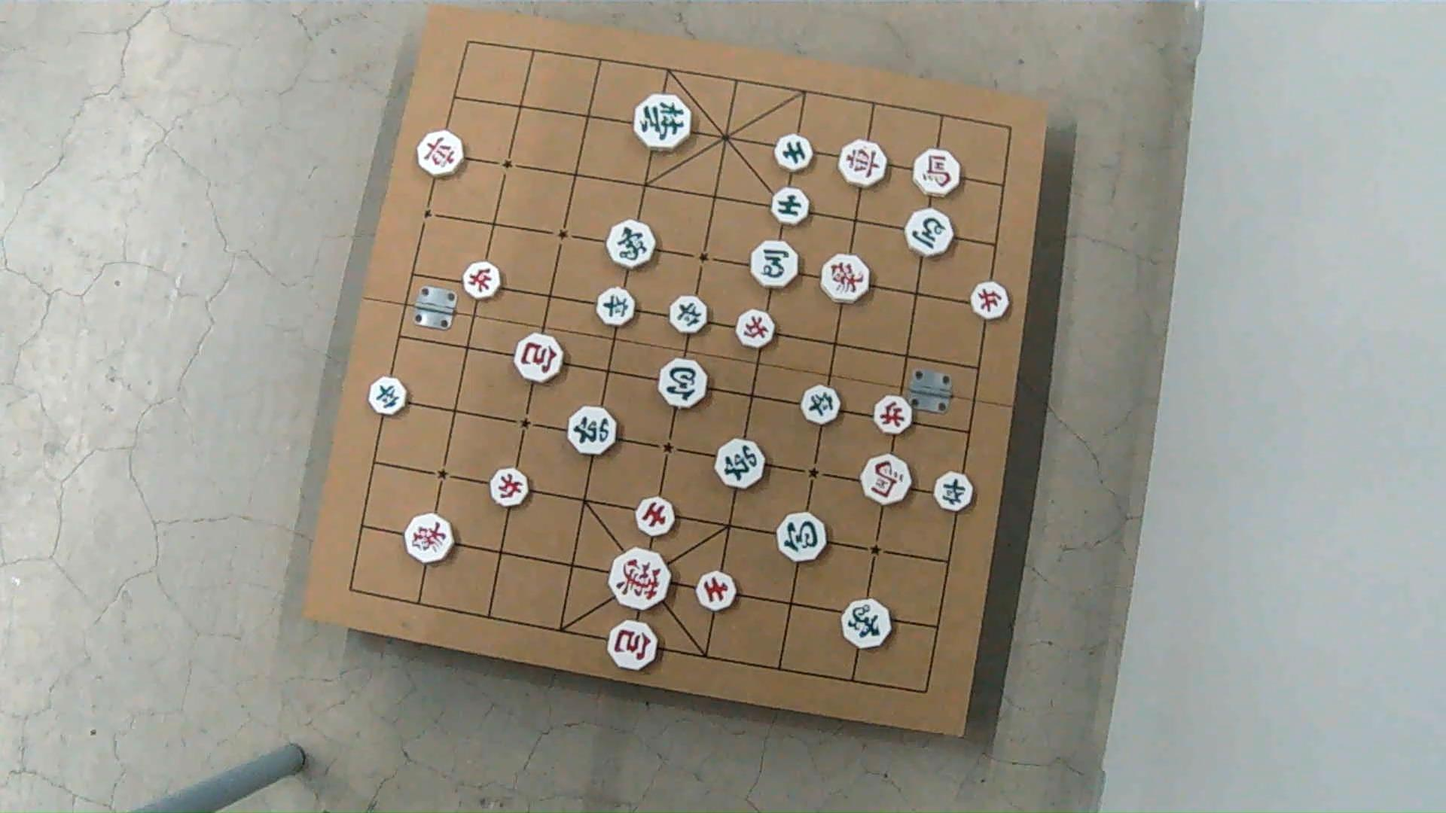cha_green: (714, 437, 764, 487), (567, 406, 616, 455)
cha_red: (840, 140, 887, 187), (420, 132, 466, 177)
jol_green: (935, 473, 974, 511), (801, 386, 839, 425), (596, 286, 636, 323), (367, 375, 404, 413), (670, 296, 708, 333)
jol_red: (489, 466, 528, 506), (737, 309, 776, 348), (874, 396, 913, 435), (464, 261, 502, 300), (970, 279, 1008, 317)
ma_green: (904, 209, 953, 256), (751, 241, 798, 288)
ma_red: (861, 455, 911, 505), (915, 150, 962, 197)
po_green: (657, 358, 706, 408), (776, 513, 826, 562)
po_red: (609, 620, 658, 669), (516, 336, 565, 384)
sa_green: (772, 189, 810, 227), (775, 133, 813, 171)
sa_red: (694, 574, 734, 614), (636, 497, 676, 536)
sang_green: (843, 600, 892, 650), (609, 222, 658, 270)
sang_red: (403, 514, 452, 563), (822, 255, 871, 303)
wang_green: (632, 96, 690, 152)
wang_red: (610, 548, 671, 609)
